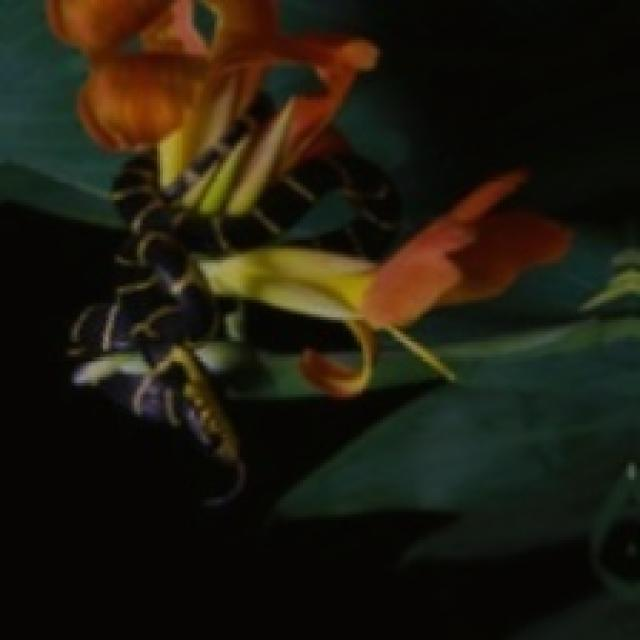mangrove cat snake: (69, 74, 400, 503)
